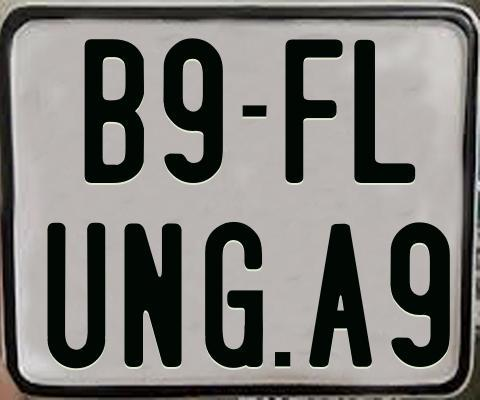9: (163, 38, 226, 188), (390, 222, 450, 369)
A: (308, 224, 374, 373)
B: (82, 36, 144, 185)
F: (285, 38, 343, 182)
G: (203, 222, 267, 372)
L: (352, 39, 415, 185)
N: (123, 221, 185, 370)
U: (46, 220, 110, 369)
